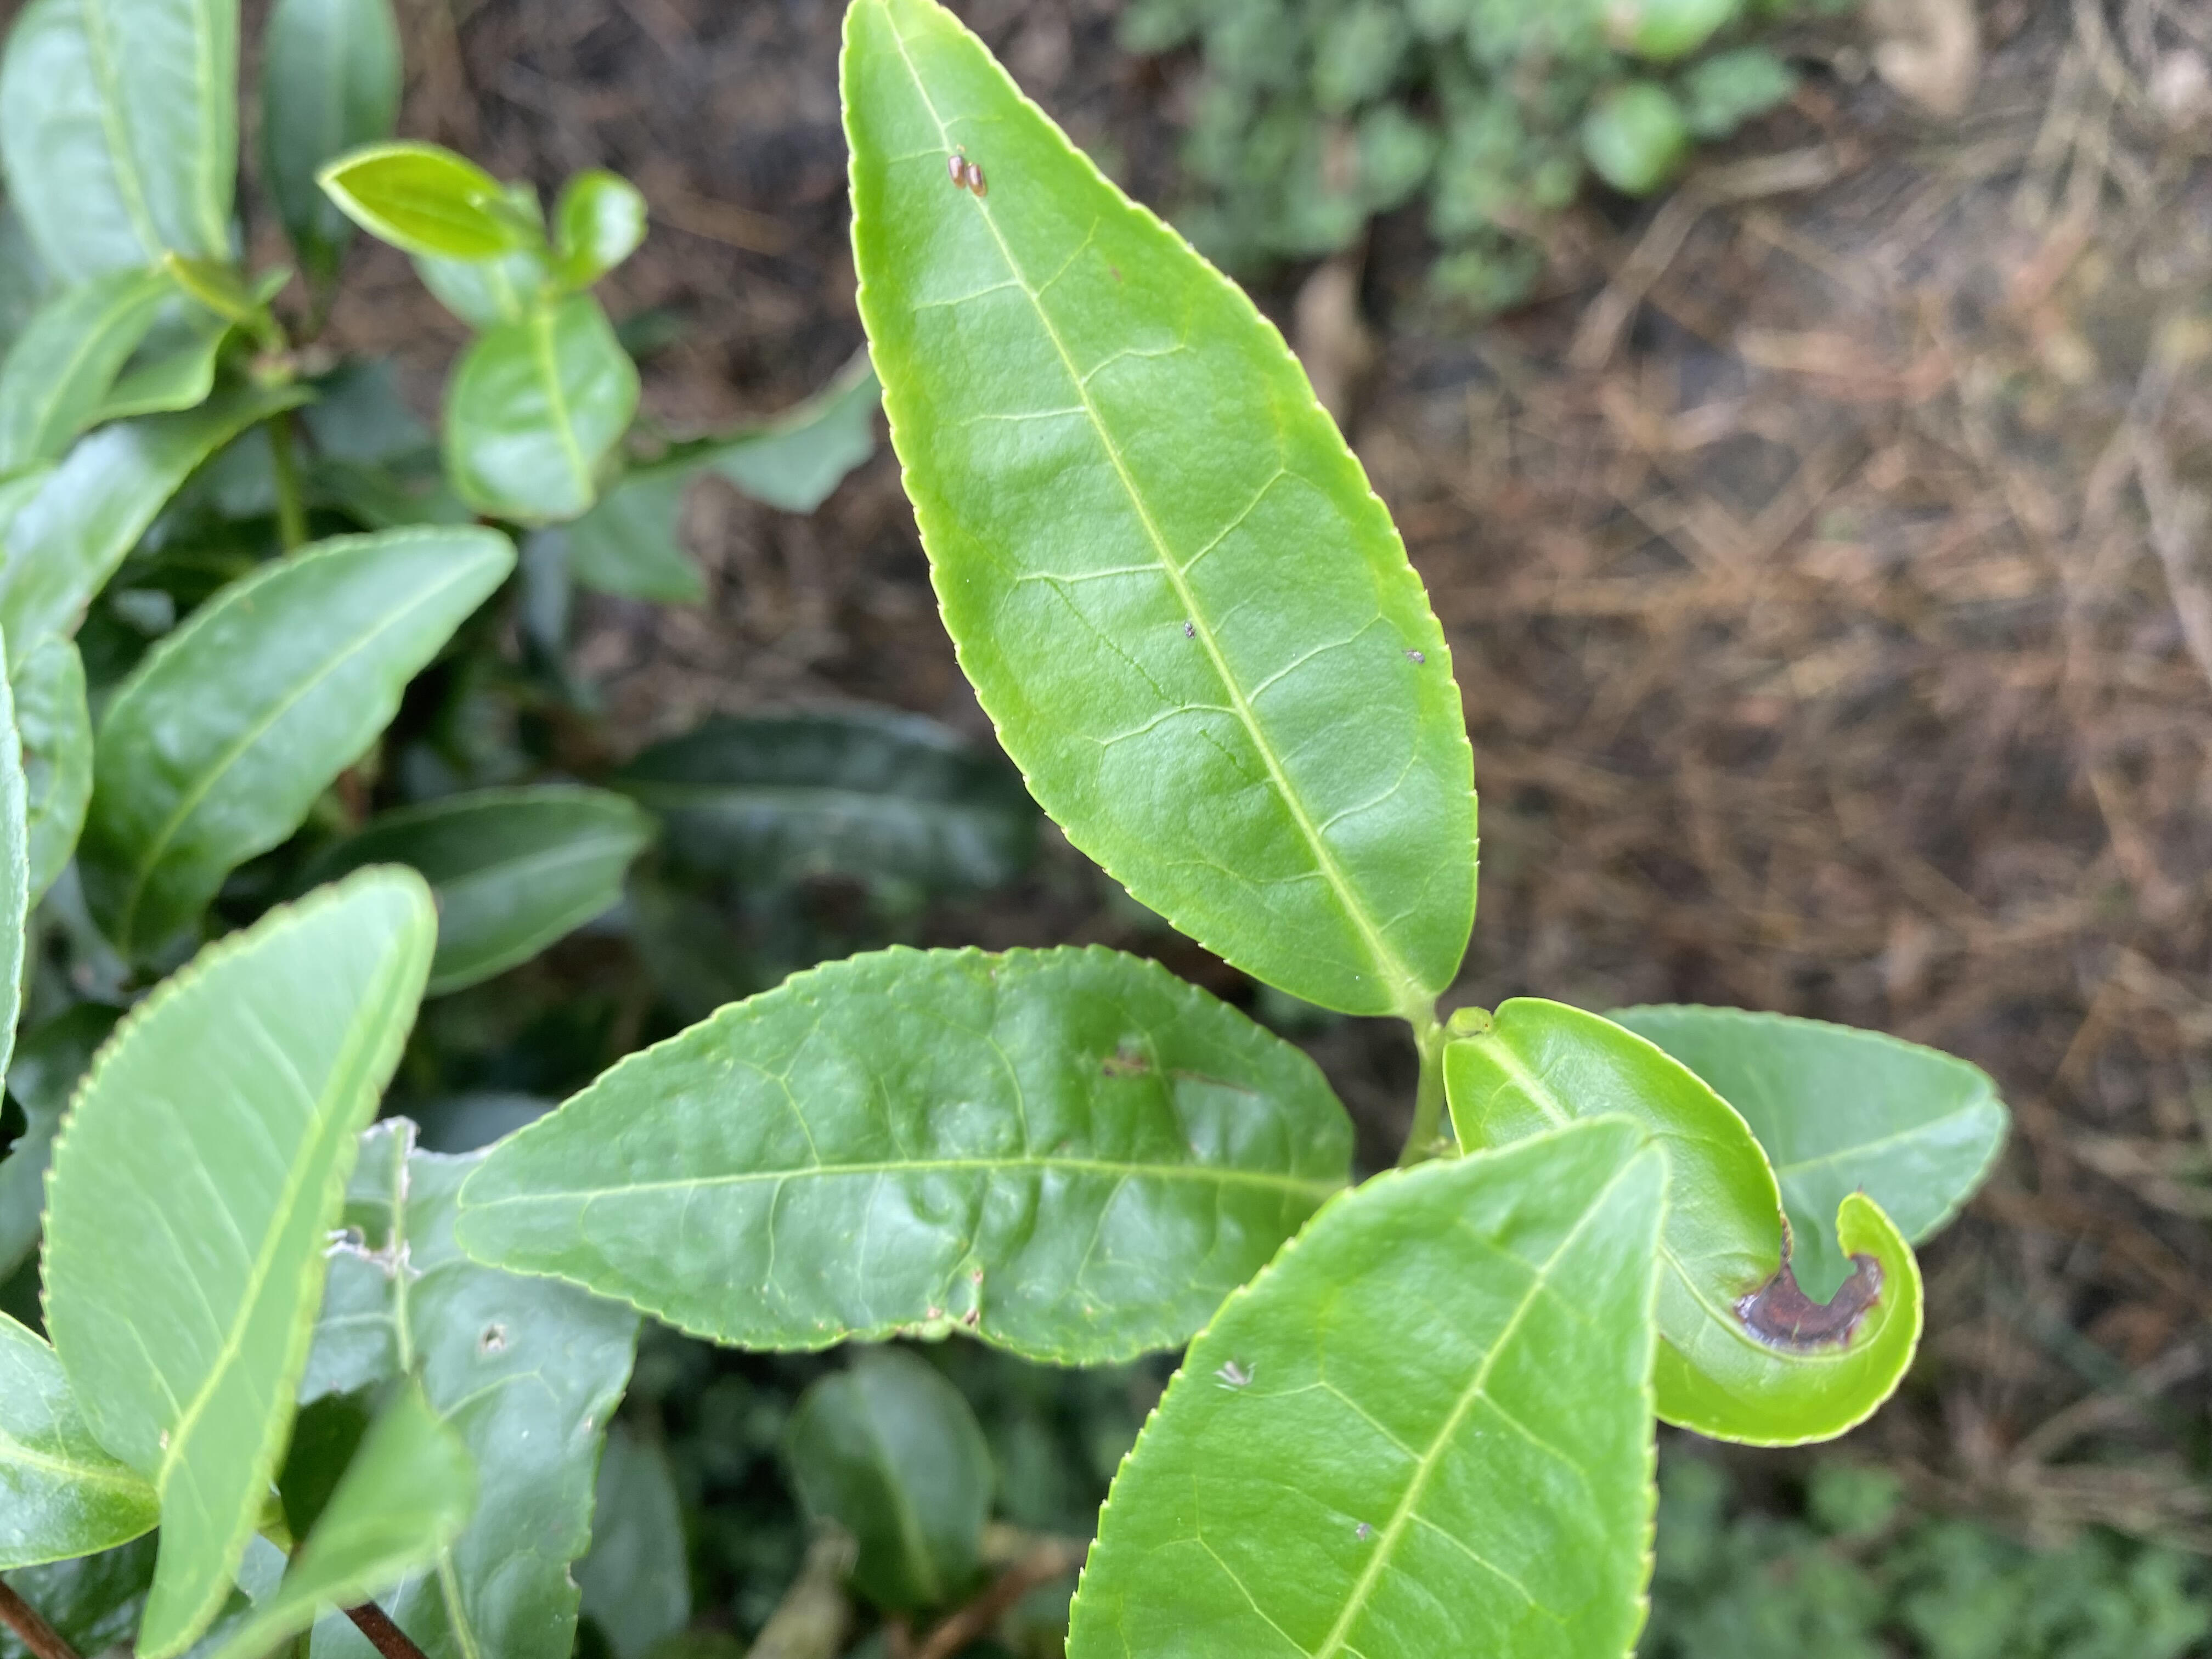tanju_high: (1444, 993, 1923, 1448)
tanju_low: (833, 3, 1480, 1023)
